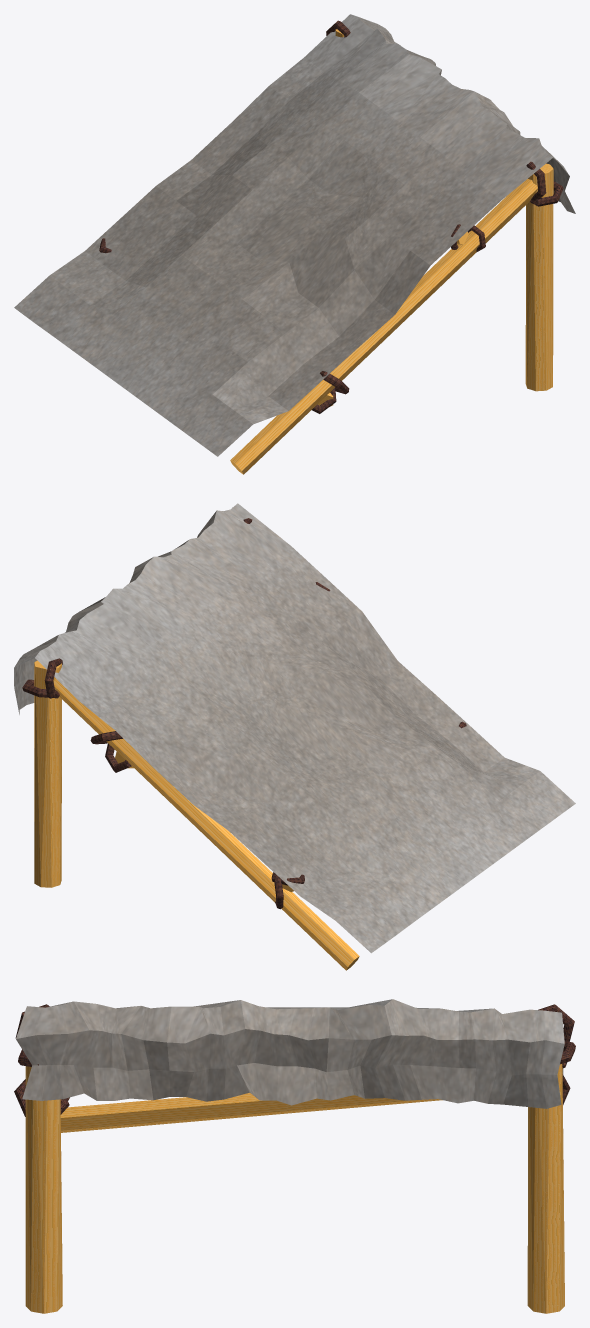
File: OpenFacedHut.fbx
3 renders of one model, top to bottom at view 1: azimuth 30°, elevation 25°; view 2: azimuth 150°, elevation 25°; view 3: azimuth 270°, elevation 25°, orthographic. The views are drawn at different scales.
Visible parts, largest first — view 1: Plane, Knot; view 2: Plane, Knot; view 3: Plane, Knot.
Part boxes in pixels (bbox=[...]): Plane: bbox=[14, 14, 575, 456]; Knot: bbox=[99, 20, 563, 474]; Plane: bbox=[14, 503, 575, 953]; Knot: bbox=[22, 518, 466, 970]; Plane: bbox=[16, 999, 564, 1108]; Knot: bbox=[14, 1004, 575, 1313].
Bounding box in the file's own units: 293 × 196 × 301.
